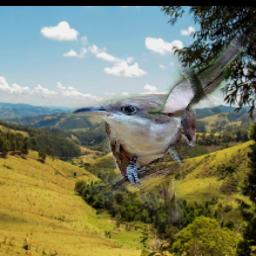Cuckoo: (72, 94, 197, 238), (148, 25, 256, 119)
